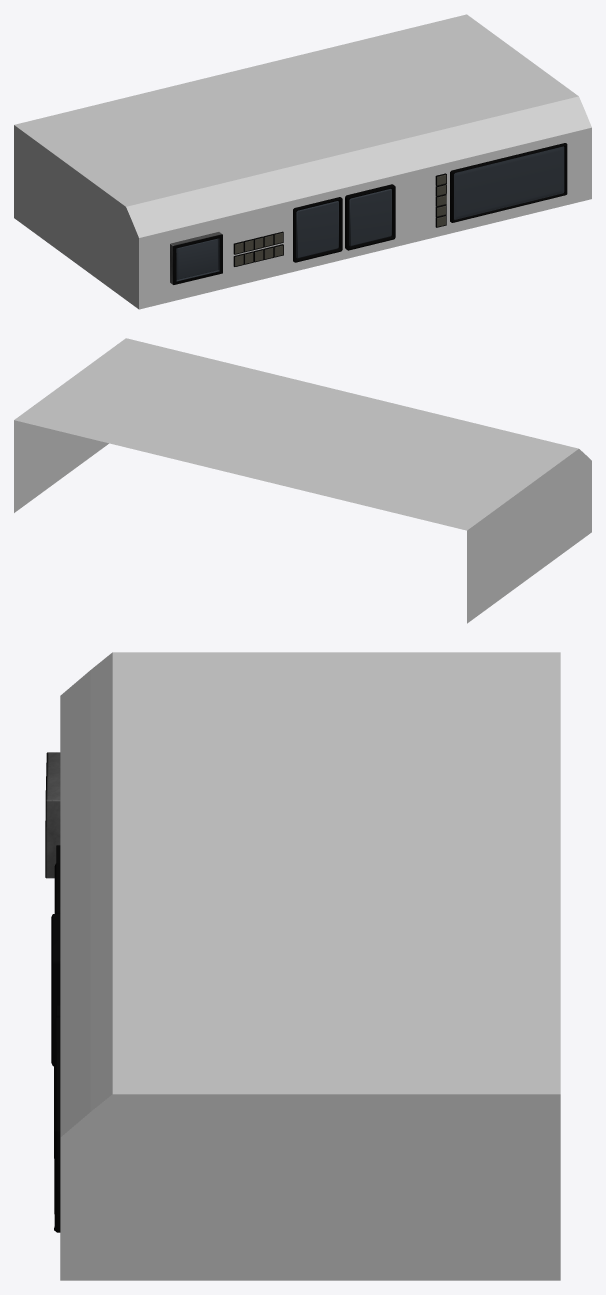
The model's file is DeskComp.fbx.
The picture shows the model from 3 angles, top to bottom: view 1: azimuth 30°, elevation 25°; view 2: azimuth 150°, elevation 25°; view 3: azimuth 270°, elevation 25°; orthographic projection. The views are drawn at different scales.
Parts seen in each view (by area): view 1: DeskComp_Base; view 2: DeskComp_Base; view 3: DeskComp_Base.
Boxes of the visible parts, x1,y1,x2,y2 form: DeskComp_Base: (14,14,591,309); DeskComp_Base: (14,338,591,623); DeskComp_Base: (45,652,560,1280).
Bounding box in the file's own units: 89.56 × 35.72 × 182.
